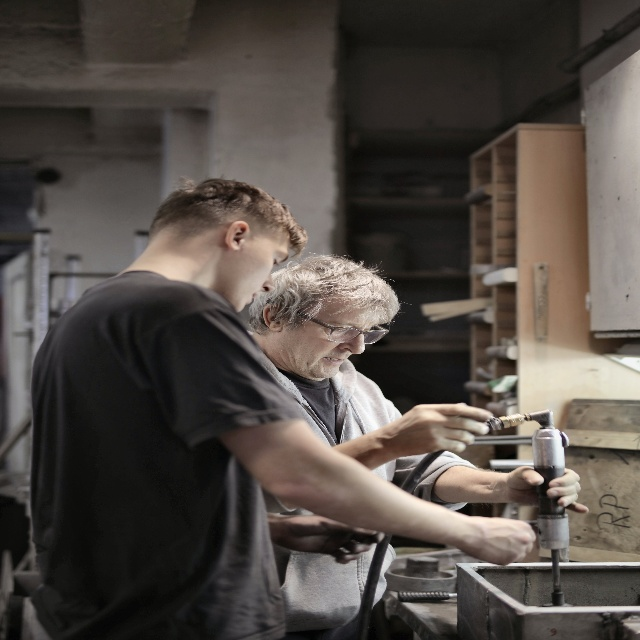Gafas: (296, 309, 389, 343)
Sin_guantes: (394, 400, 493, 459), (507, 462, 589, 515), (466, 515, 541, 567)
